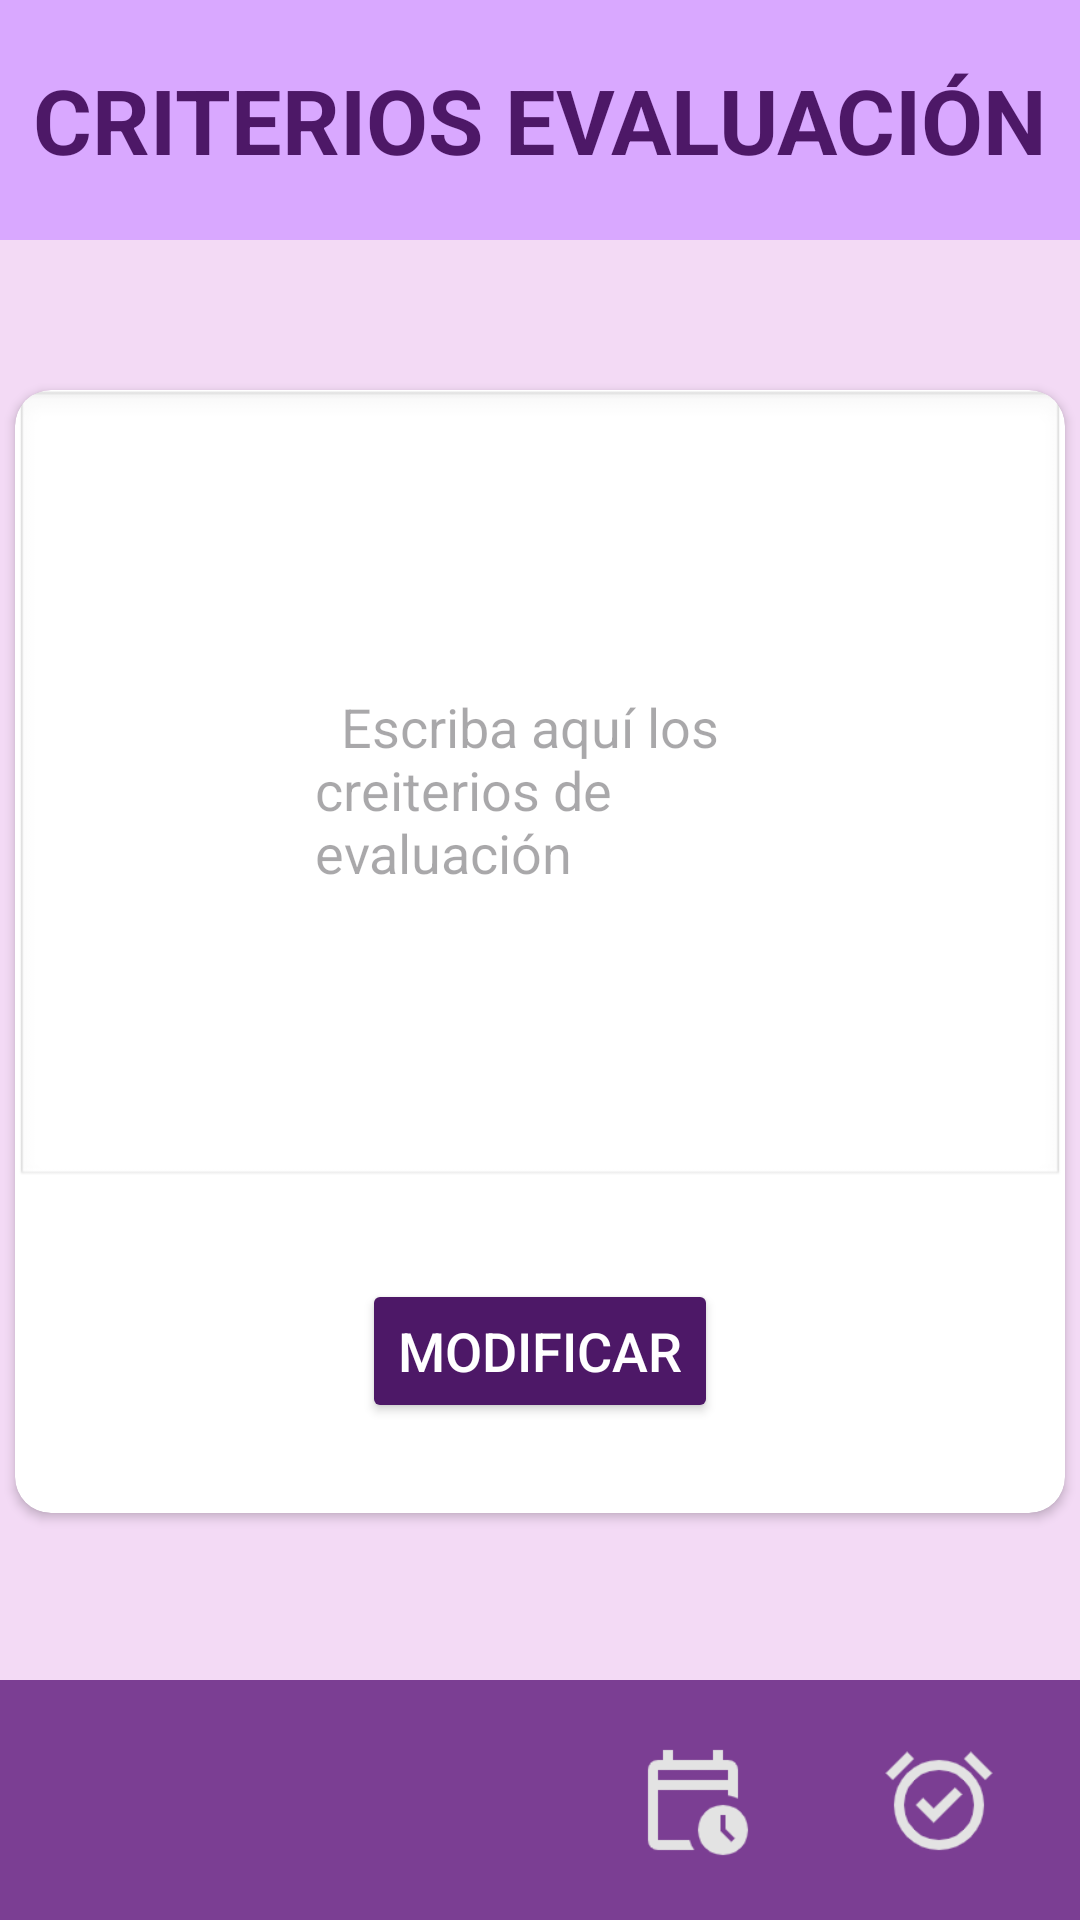

Where icons sit on this 1080 × 1920 app screen, as (x1, y1, x2, y2):
Horario: (648, 1750, 748, 1855)
Reloj: (885, 1751, 993, 1850)
